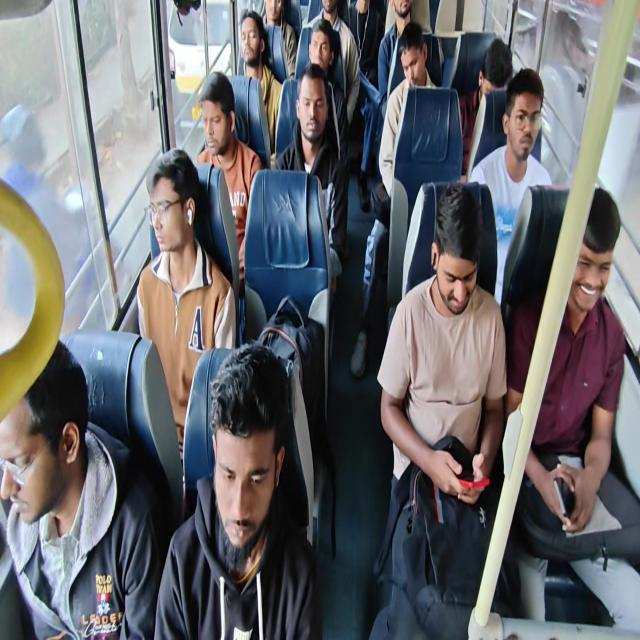person: (198, 306, 294, 581), (5, 312, 86, 534), (569, 193, 640, 413), (143, 160, 194, 274), (288, 81, 351, 170), (484, 36, 540, 126), (429, 187, 473, 300), (189, 68, 233, 151), (497, 85, 542, 160), (237, 10, 278, 78), (399, 33, 424, 98), (309, 19, 338, 68), (349, 0, 377, 44), (310, 0, 344, 31), (390, 0, 409, 35), (265, 0, 286, 20)
